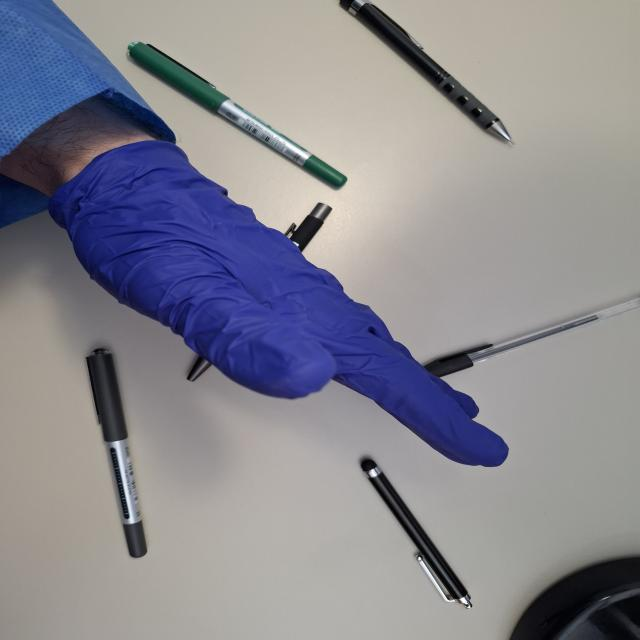glove_on: (43, 134, 514, 472)
